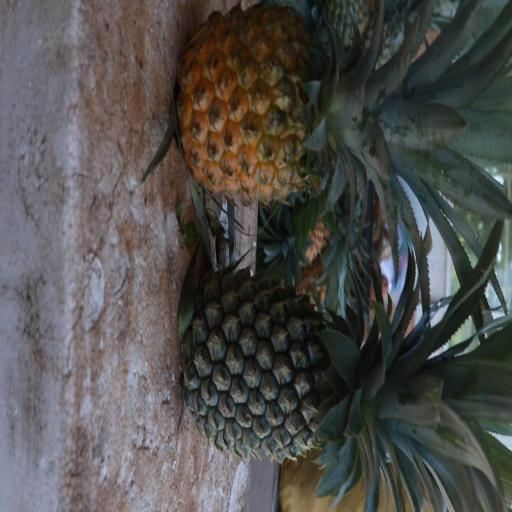Pineapple - v8 v1: (183, 12, 466, 208)
